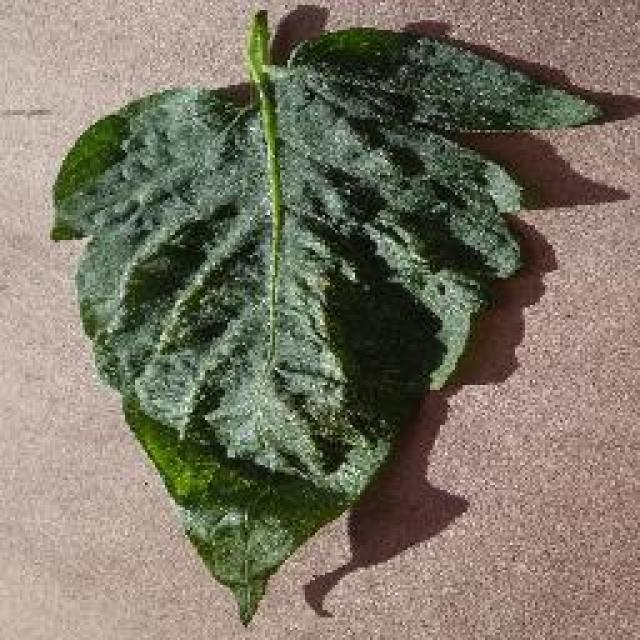Tomato___Spider_mites Two-spotted_spider_mite: (52, 12, 598, 620)
